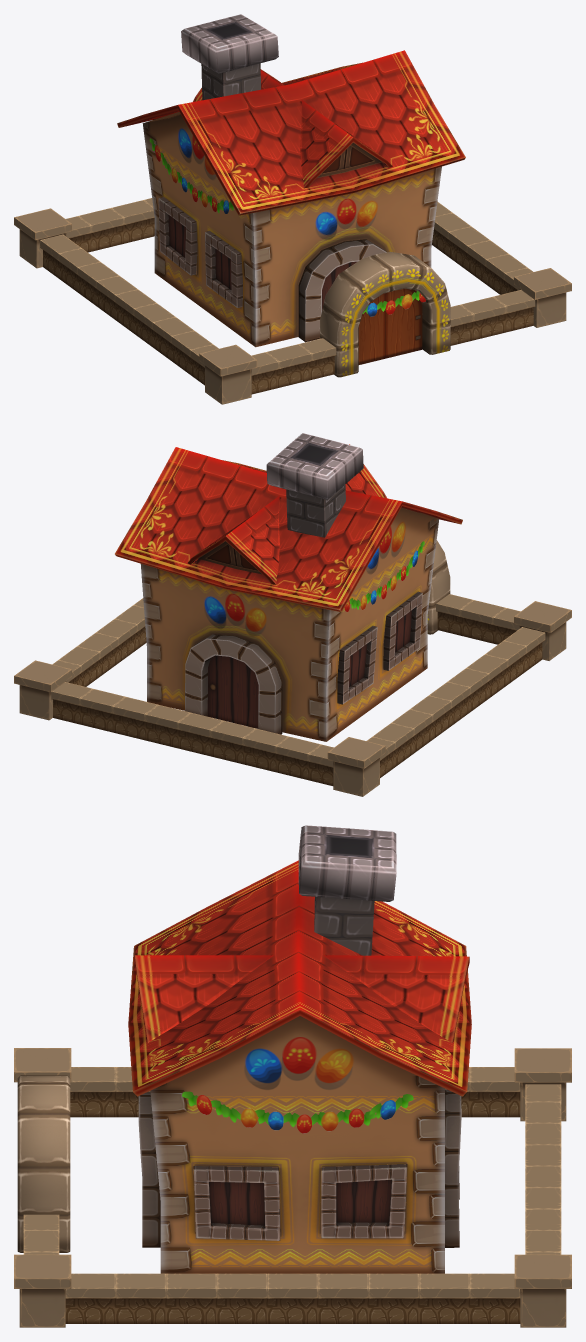
File: House_02_F.FBX
The picture shows the model from 3 angles, top to bottom: view 1: azimuth 30°, elevation 25°; view 2: azimuth 150°, elevation 25°; view 3: azimuth 270°, elevation 25°; orthographic projection. The views are drawn at different scales.
Visible parts, largest first — view 1: House_02_F, Gate001, Plane769; view 2: House_02_F, Gate001, Plane769; view 3: House_02_F, Gate001, Plane769.
Part boxes in pixels (x1,y1,x2,y2): House_02_F: (117,14,465,347); Gate001: (14,198,571,404); Plane769: (149,138,425,316); House_02_F: (115,433,462,741); Gate001: (14,540,571,796); Plane769: (344,541,424,611); House_02_F: (128,825,471,1273); Gate001: (14,1048,571,1327); Plane769: (182,1091,413,1133).
Size of the model in its own units: 2.68 by 1.88 by 2.74.
